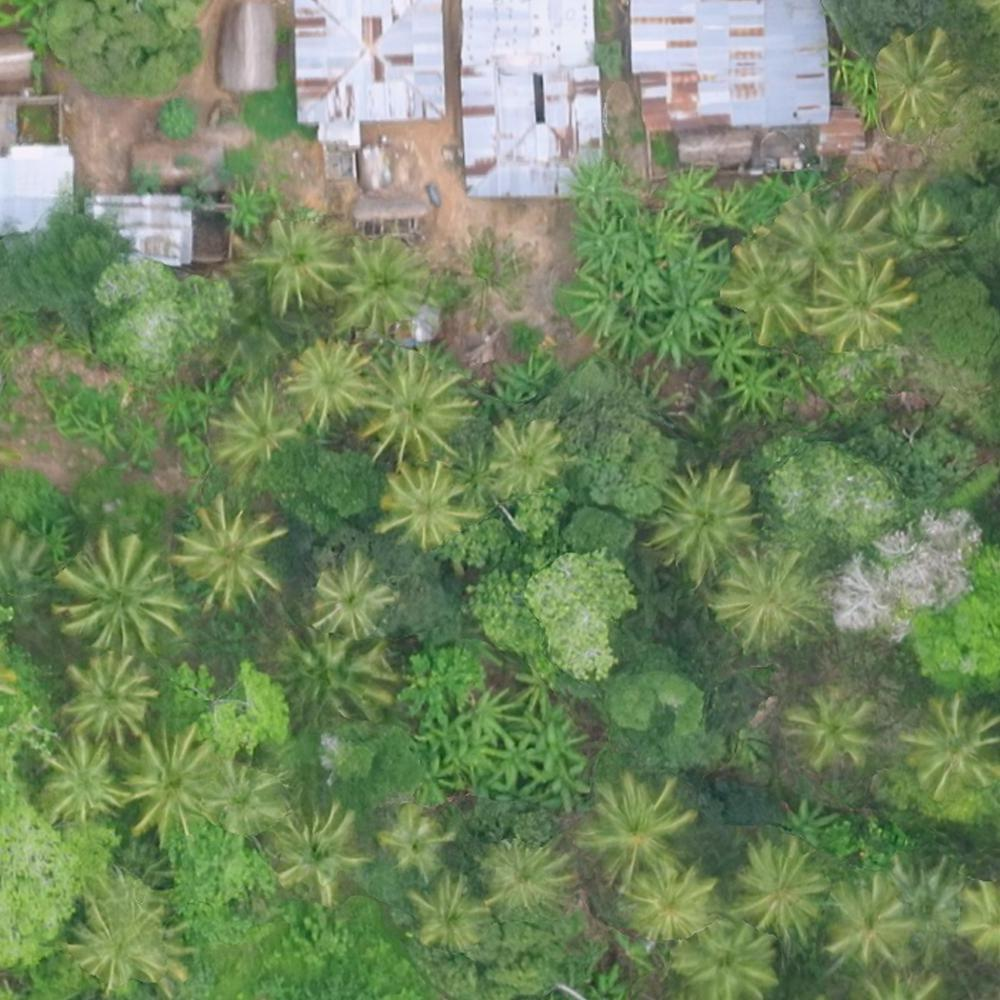Palm: (55, 535, 180, 656), (359, 349, 472, 460), (116, 732, 230, 839), (581, 769, 692, 876), (652, 466, 753, 576), (177, 499, 280, 605), (903, 692, 1000, 797), (720, 549, 825, 645), (724, 244, 819, 348), (269, 799, 364, 901), (732, 841, 828, 934), (675, 914, 778, 1000), (380, 465, 481, 552), (336, 231, 432, 319), (34, 734, 131, 819), (872, 33, 958, 127), (817, 264, 905, 355), (62, 654, 154, 741), (787, 681, 879, 768), (821, 875, 911, 961), (255, 217, 343, 304), (209, 385, 299, 467), (619, 866, 711, 942), (294, 340, 376, 425), (311, 555, 393, 638), (479, 418, 564, 495), (209, 758, 283, 840), (378, 800, 452, 880), (483, 839, 570, 907), (411, 874, 487, 951)
